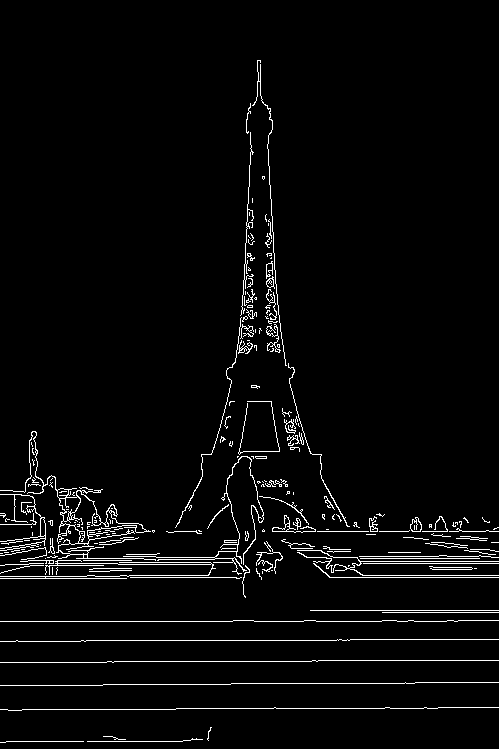eiffel tower: (135, 25, 364, 548)
